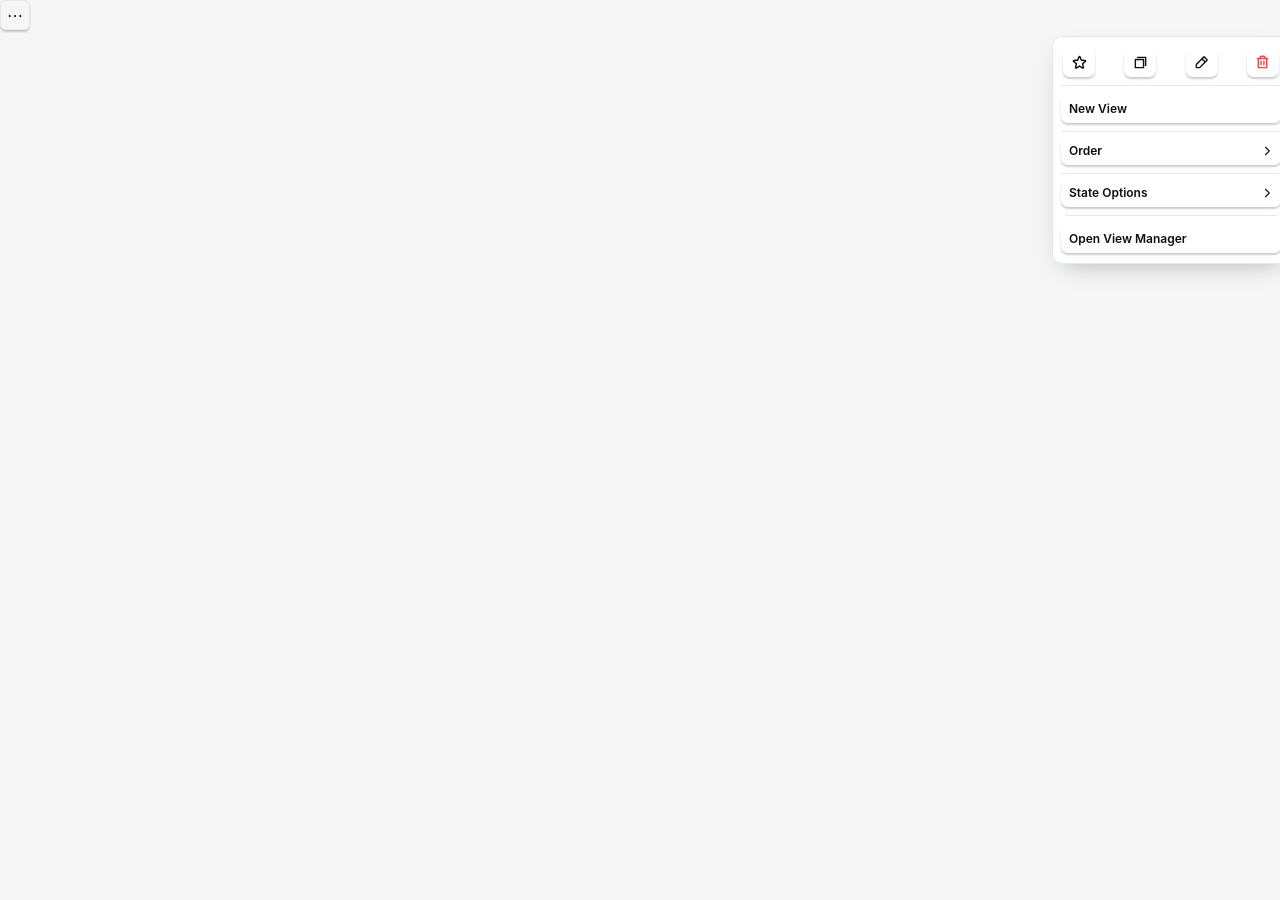
Test case: ViewActionsDropdown › opens a confirmation modal before restoring saved card locations
Click the button named "view actions" at (15, 15), box 0,0 -> 30,30
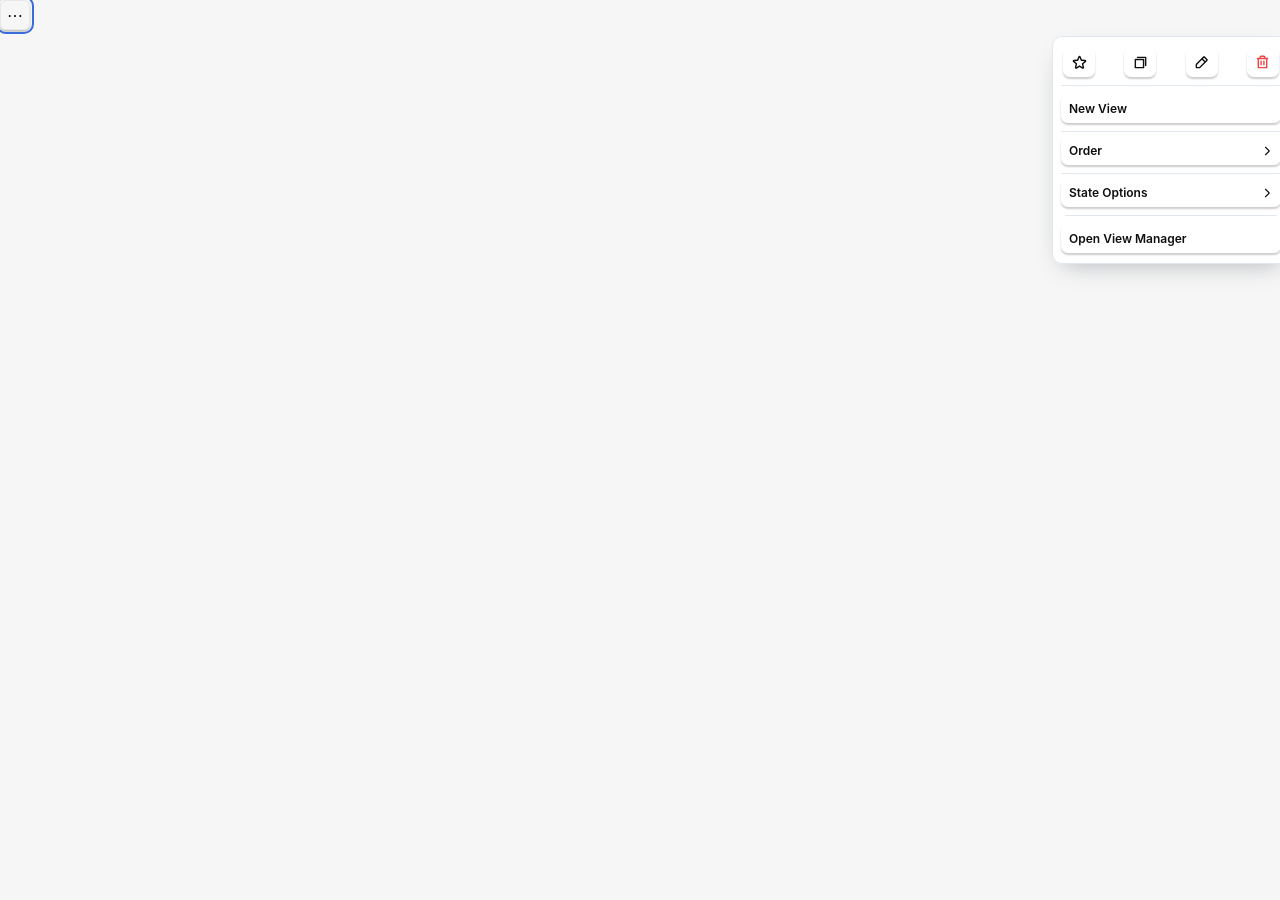
Click the button "State Options" at (1170, 192), box 1061,178 -> 1279,207
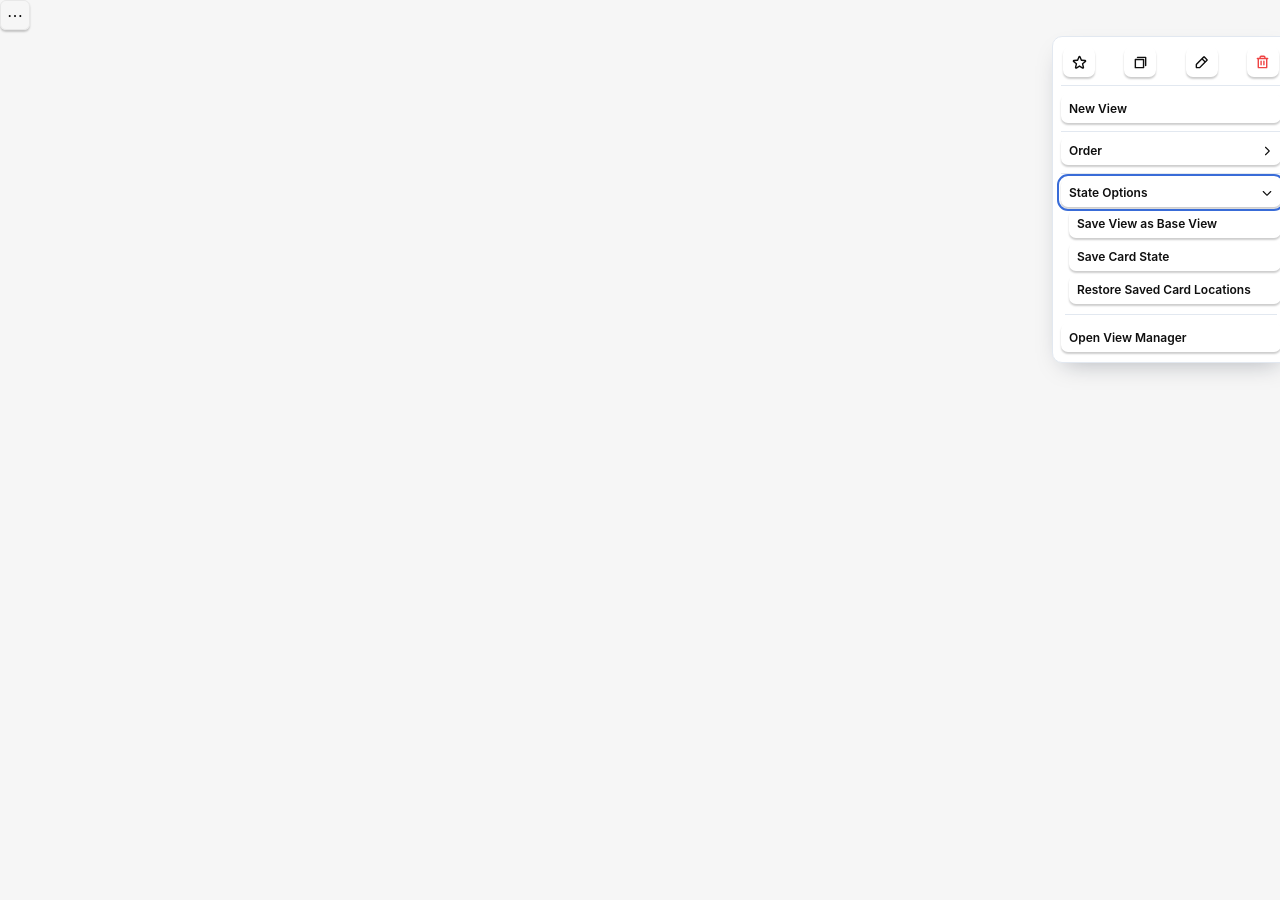
Click the button "Restore Saved Card Locations" at (1174, 290), box 1069,275 -> 1279,304
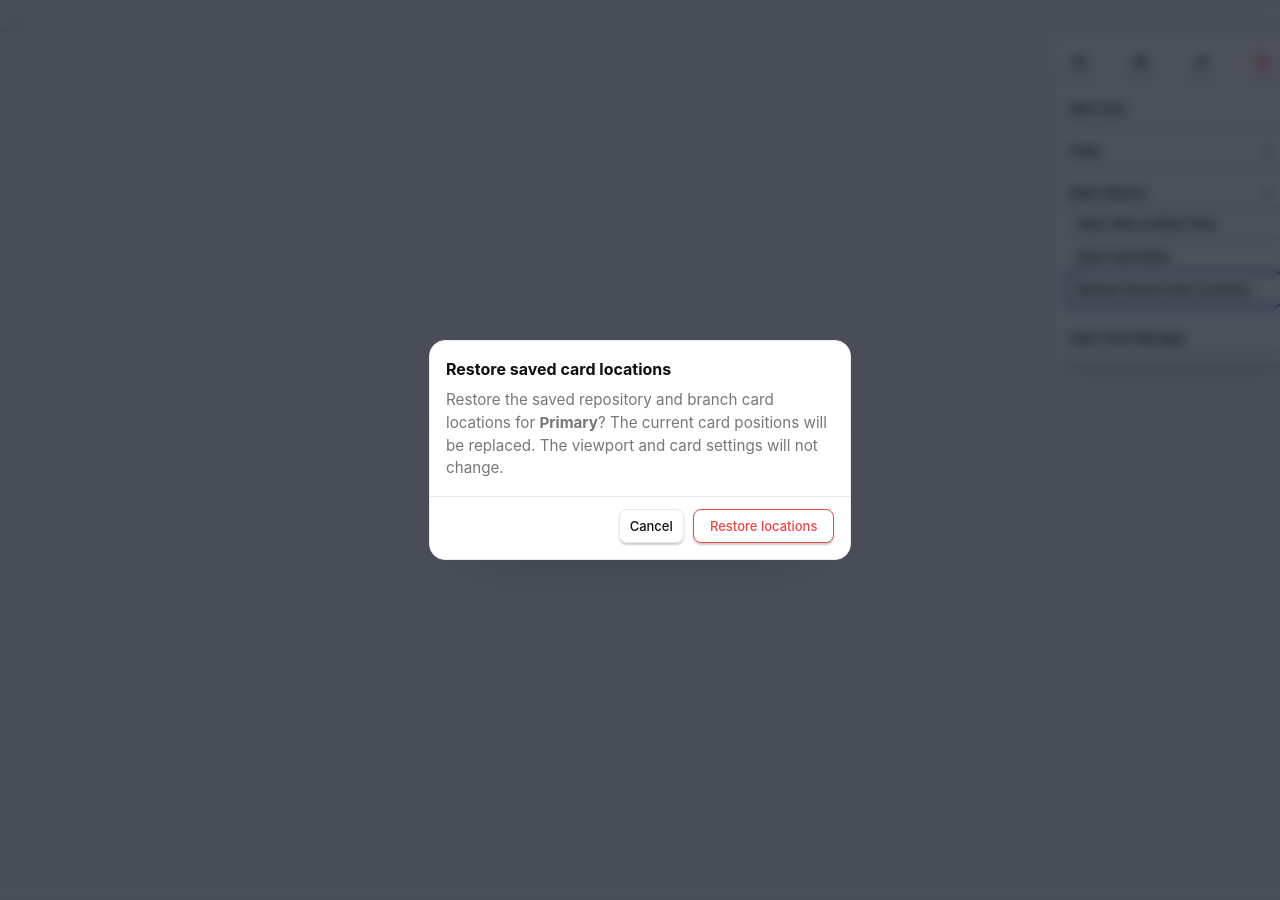
Check: the dialog shows "Restore saved card locations", box 446,359 -> 671,379
Check: the dialog shows "viewport and card settings will not change", box 446,413 -> 827,477
